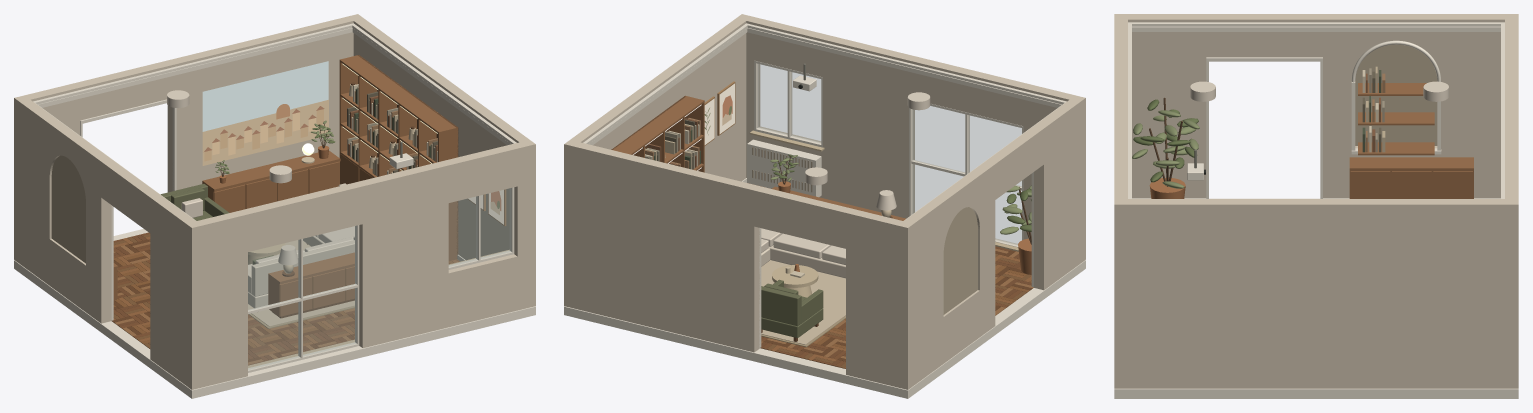
Rendered from sala-cinema.glb.
3 renders of one model, left to right at view 1: azimuth 30°, elevation 25°; view 2: azimuth 150°, elevation 25°; view 3: azimuth 270°, elevation 25°, orthographic. The views are drawn at different scales.
Visible parts, largest first — view 1: Parede front, Parede left, Parede back, Pavimento — tacos de madeira, Estante direita — 3,00 × 0,34 × 2,20 m, Projeção indicativa, Parede right, Móvel sob a projeção, Aparador atrás do sofá — 2,30 × 0,35 m, Nicho em arco, Sofá em L — 2,70 × 1,95 m, Poltrona de linhas direitas — 0,78 × 0,78 m (+5 smaller); view 2: Parede back, Parede front, Parede left, Parede right, Pavimento — tacos de madeira, Estante direita — 3,00 × 0,34 × 2,20 m, Nicho em arco, Poltrona de linhas direitas — 0,78 × 0,78 m, Grelha existente, Sofá em L — 2,70 × 1,95 m, Tapete, Planta (×2) (+4 smaller); view 3: Parede right, Parede left, Nicho em arco, Parede front, Parede back, Arrumação sob o nicho, Pavimento — tacos de madeira, Planta, Luminárias de teto e projetor.
Boxes of the visible parts, bbox=[...] form: Parede front: bbox=[186, 140, 535, 389]; Parede left: bbox=[20, 99, 195, 385]; Parede back: bbox=[14, 14, 363, 263]; Pavimento — tacos de madeira: bbox=[14, 229, 535, 398]; Estante direita — 3,00 × 0,34 × 2,20 m: bbox=[339, 55, 458, 260]; Projeção indicativa: bbox=[202, 61, 328, 165]; Parede right: bbox=[351, 18, 529, 259]; Móvel sob a projeção: bbox=[202, 150, 340, 212]; Aparador atrás do sofá — 2,30 × 0,35 m: bbox=[268, 252, 354, 318]; Nicho em arco: bbox=[51, 155, 85, 263]; Sofá em L — 2,70 × 1,95 m: bbox=[248, 183, 354, 308]; Poltrona de linhas direitas — 0,78 × 0,78 m: bbox=[160, 183, 229, 220]; Parede back: bbox=[564, 140, 913, 389]; Parede front: bbox=[736, 14, 1085, 263]; Parede left: bbox=[904, 99, 1079, 385]; Parede right: bbox=[570, 18, 748, 181]; Pavimento — tacos de madeira: bbox=[564, 183, 1085, 398]; Estante direita — 3,00 × 0,34 × 2,20 m: bbox=[611, 95, 704, 172]; Nicho em arco: bbox=[943, 207, 977, 314]; Poltrona de linhas direitas — 0,78 × 0,78 m: bbox=[761, 279, 823, 341]; Grelha existente: bbox=[747, 139, 821, 197]; Sofá em L — 2,70 × 1,95 m: bbox=[761, 228, 845, 278]; Tapete: bbox=[761, 260, 845, 347]; Planta (×2): bbox=[770, 154, 1031, 274]; Parede right: bbox=[1128, 199, 1504, 388]; Parede left: bbox=[1128, 14, 1504, 198]; Nicho em arco: bbox=[1351, 40, 1441, 155]; Parede front: bbox=[1114, 14, 1131, 388]; Parede back: bbox=[1501, 14, 1518, 388]; Arrumação sob o nicho: bbox=[1349, 157, 1473, 198]; Pavimento — tacos de madeira: bbox=[1114, 198, 1518, 398]; Planta: bbox=[1132, 97, 1199, 198]; Luminárias de teto e projetor: bbox=[1187, 81, 1448, 180].
Size of the model in its own units: 6 by 2.85 by 5.38.
